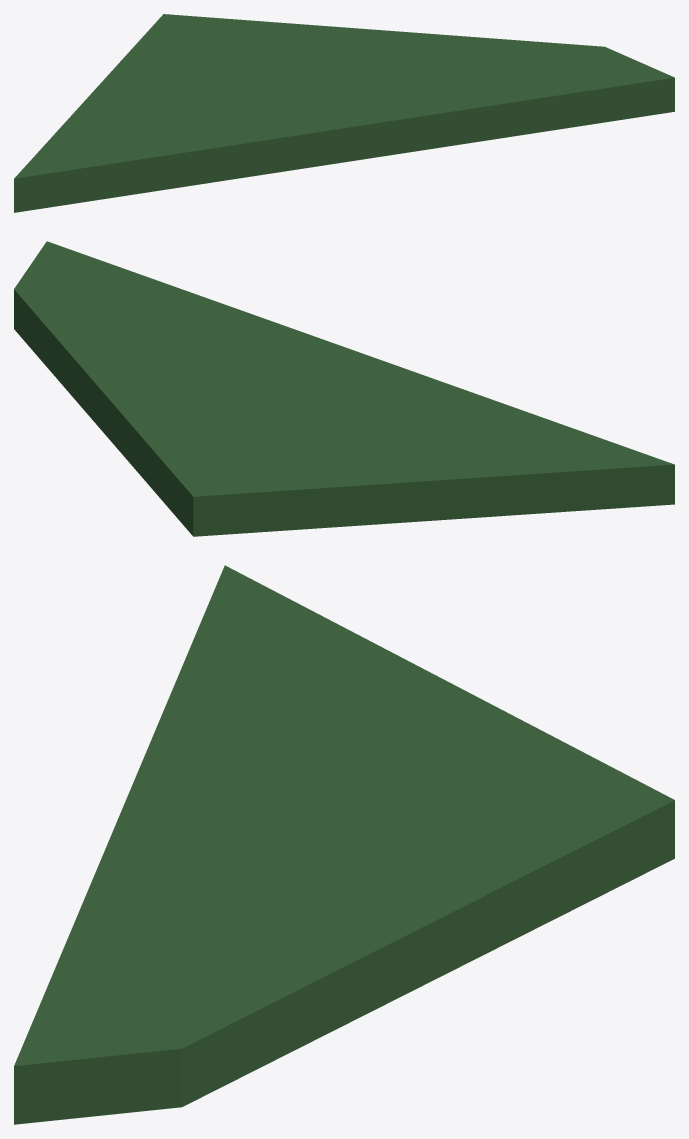
File: x_proval_00_155_1_rmstrd.fbx
3 renders of one model, top to bottom at view 1: azimuth 30°, elevation 25°; view 2: azimuth 150°, elevation 25°; view 3: azimuth 270°, elevation 25°, orthographic. The views are drawn at different scales.
Visible parts, largest first — view 1: x_proval_00_155_1_rmstrd1; view 2: x_proval_00_155_1_rmstrd1; view 3: x_proval_00_155_1_rmstrd1.
Boxes of the visible parts, box(x1,y1,x2,y2) form: x_proval_00_155_1_rmstrd1: box(14, 14, 674, 212); x_proval_00_155_1_rmstrd1: box(14, 241, 674, 536); x_proval_00_155_1_rmstrd1: box(14, 565, 674, 1124).
Size of the model in its own units: 3.67 by 0.2 by 2.05.
